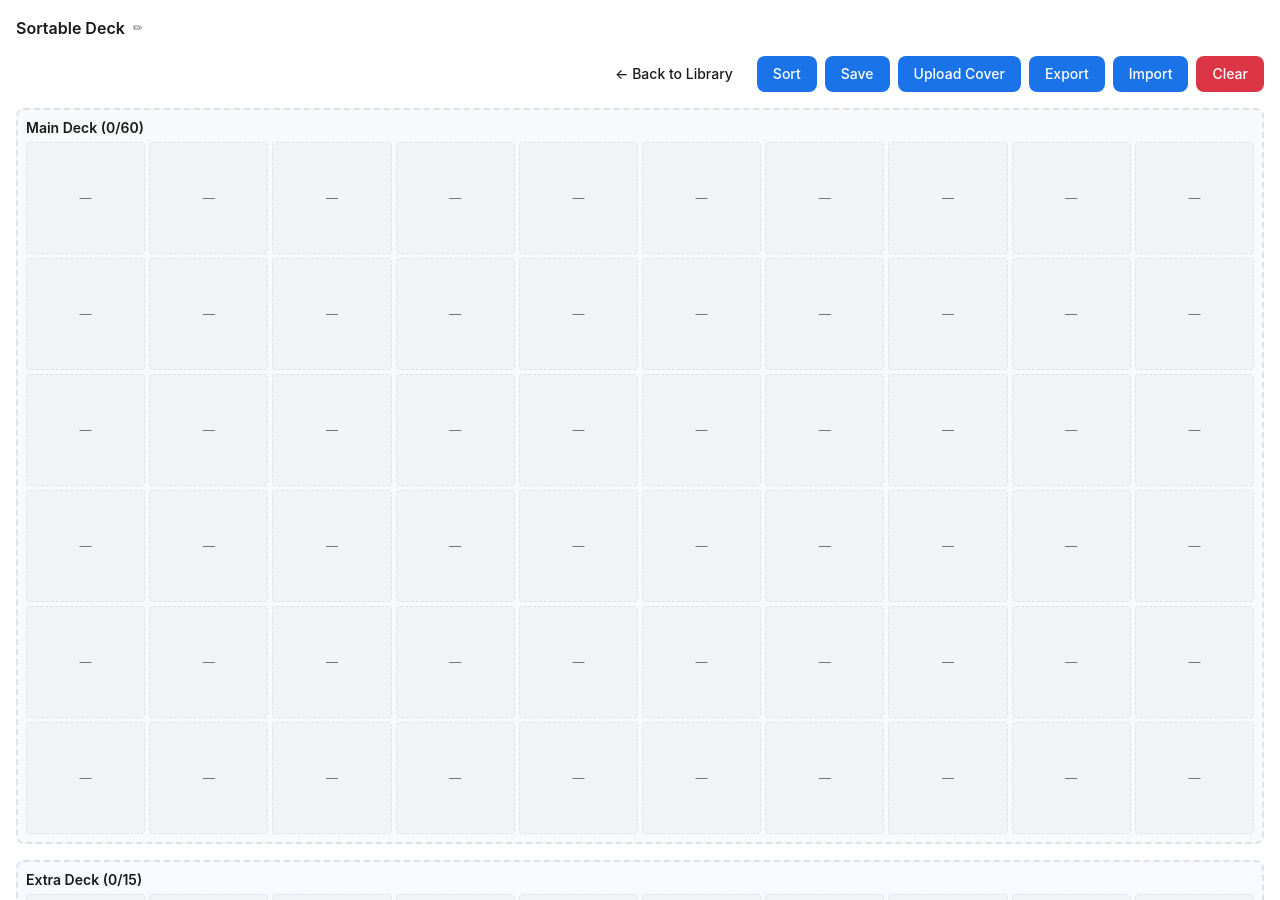
Test case: DeckBuilder sort and clear › Clear button opens AlertDialog
This screenshot has width=1280, height=900.
Click the button "Clear".
click(1230, 74)  # box [1196,56,1264,92]
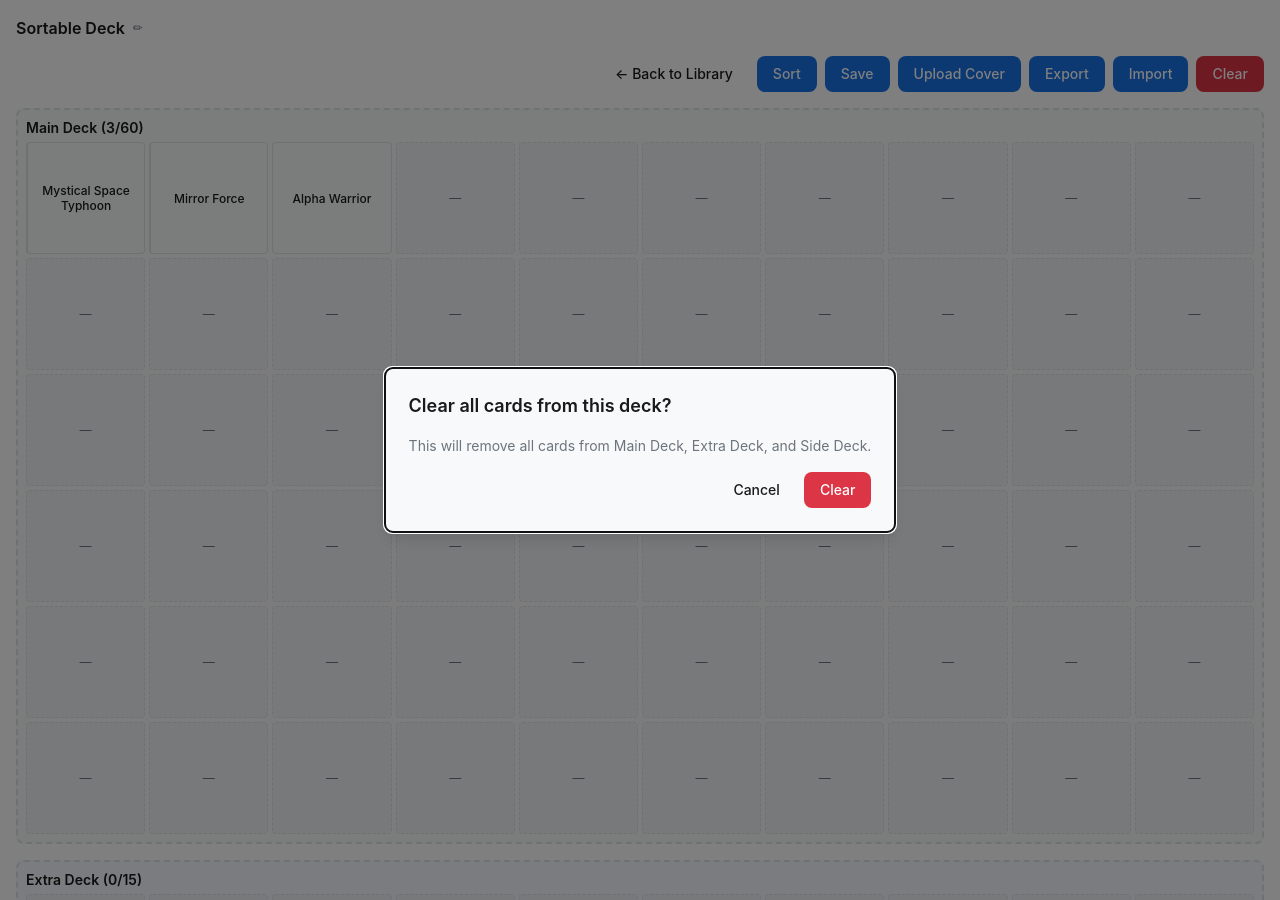
Expected: the heading "Clear all cards from this deck?" is shown, [409,395,672,416]
Expected: the text "This will remove all cards from Main Deck, Extra Deck, and Side Deck." is shown, [409,436,871,456]
